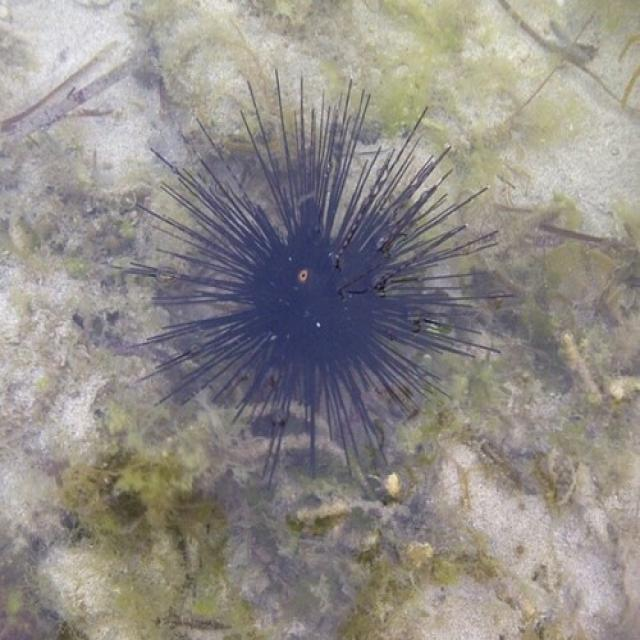Urchin: (119, 76, 516, 497)
